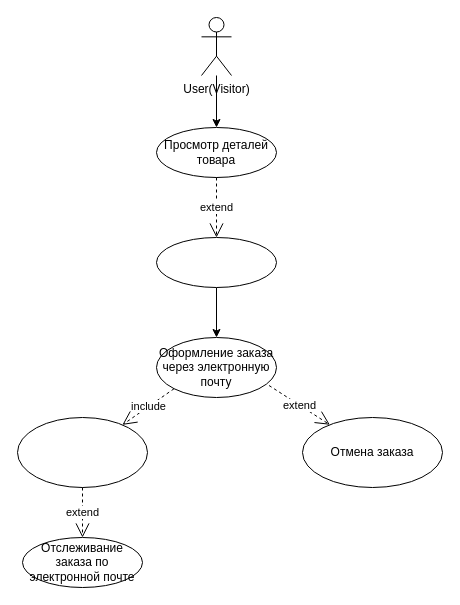
Image size: 460x605. Some labels were removed from this diagram. Each missing label, with the box of its shape:
Добавление в корзину: (156, 236, 276, 288)
Получение подтверждения заказа по электронной почте.: (16, 416, 148, 488)
